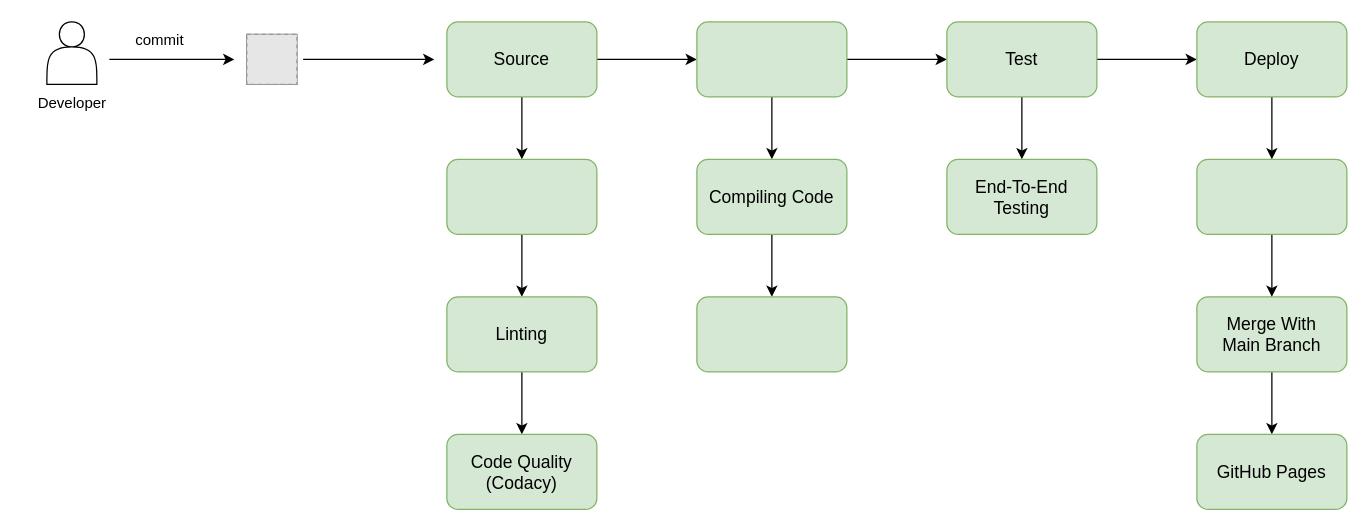
This 1369x531 diagram has some shape labels left out. Grey dashed boxes stand in for pictures. Each missing label, with the centre of its shape:
"Branch Protection" goes at (521,196).
"Build" goes at (771,59).
"Documentation (JSDocs)" goes at (1271,196).
"Unit Testing (Jest)" goes at (771,334).
